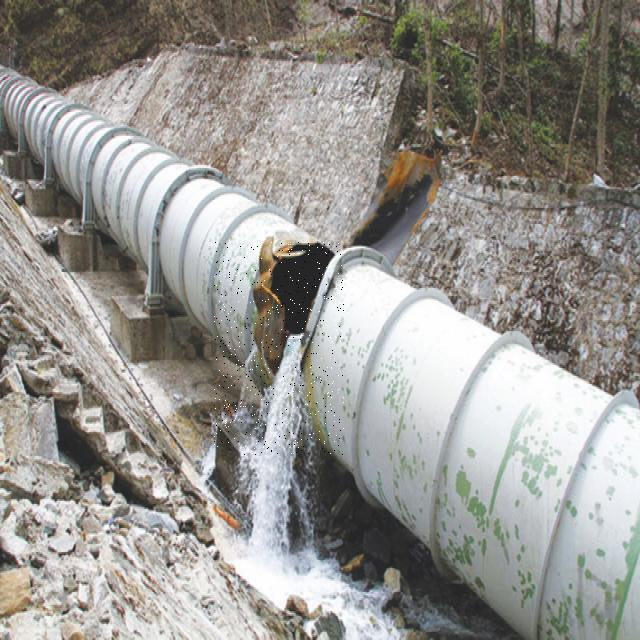pipe burst: (236, 238, 344, 556)
